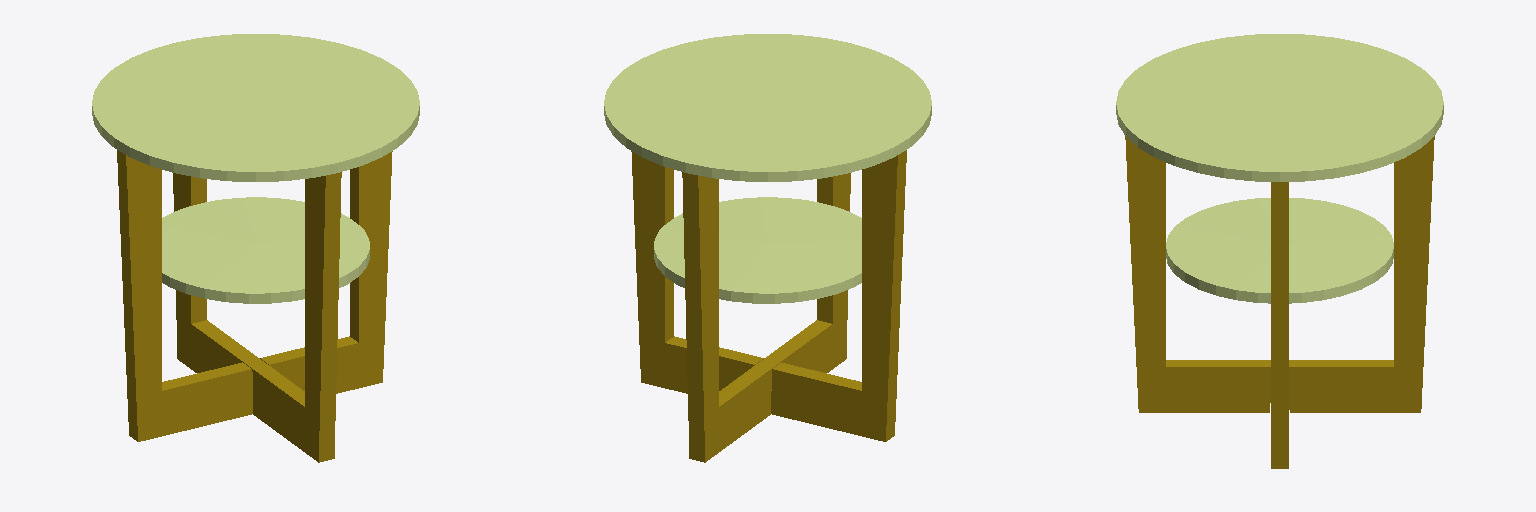
3 views of the same model, side by side, from view 1: azimuth 30°, elevation 25°; view 2: azimuth 150°, elevation 25°; view 3: azimuth 270°, elevation 25° (orthographic).
Visible parts, largest first — view 1: Object008, Box002, Box001, Object011; view 2: Object008, Box002, Box001, Object011; view 3: Object008, Box001, Object011, Box002.
Boxes of the visible parts, x1,y1,x2,y2 form: Object008: [92, 34, 419, 181]; Box002: [117, 150, 392, 441]; Box001: [173, 172, 341, 462]; Object011: [162, 197, 369, 303]; Object008: [604, 34, 931, 181]; Box002: [631, 150, 906, 441]; Box001: [682, 172, 850, 462]; Object011: [654, 197, 861, 303]; Object008: [1116, 34, 1443, 181]; Box001: [1125, 136, 1434, 412]; Object011: [1166, 198, 1393, 303]; Box002: [1271, 182, 1288, 468].
Size of the model in its own units: 22.17 by 22.81 by 22.15.